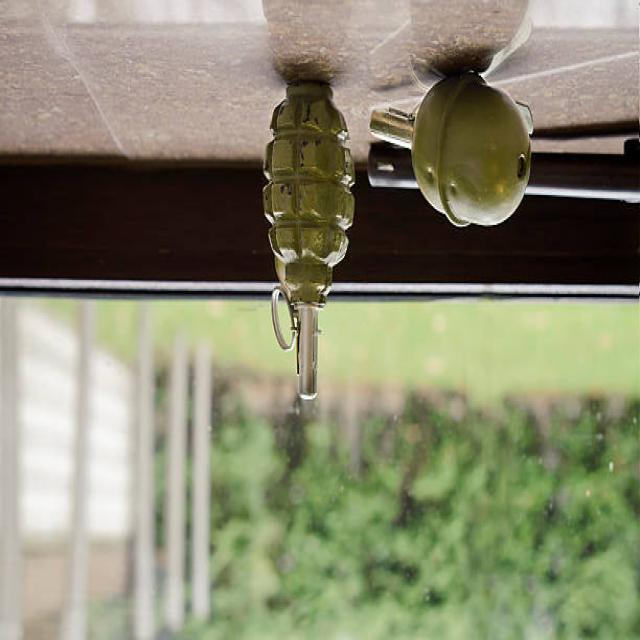grenade: (258, 76, 362, 405), (370, 64, 542, 237)
